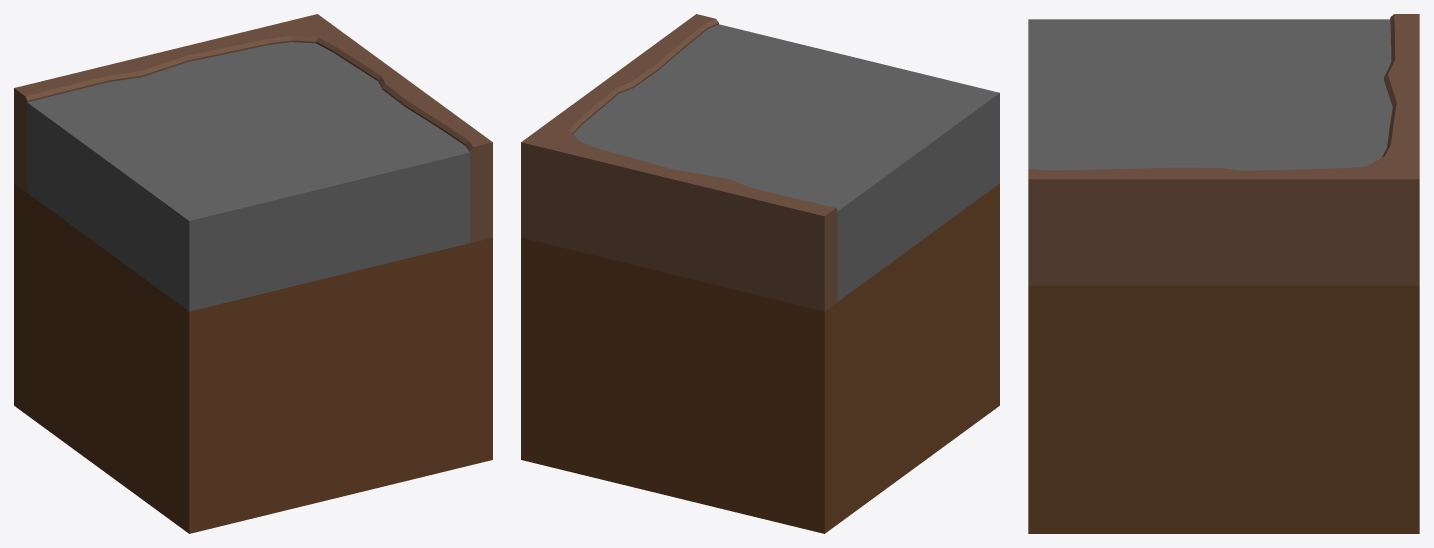
Rendered from Basement-Ground 1.fbx.
3 views of the same model, side by side, from view 1: azimuth 30°, elevation 25°; view 2: azimuth 150°, elevation 25°; view 3: azimuth 270°, elevation 25° (orthographic). The views are drawn at different scales.
Visible parts, largest first — view 1: Basement/Grass corner 4; view 2: Basement/Grass corner 4; view 3: Basement/Grass corner 4.
Boxes of the visible parts, bbox=[...] form: Basement/Grass corner 4: bbox=[14, 14, 492, 533]; Basement/Grass corner 4: bbox=[521, 14, 999, 533]; Basement/Grass corner 4: bbox=[1028, 14, 1419, 533].
Bounding box in the file's own units: 2 × 2 × 2.
